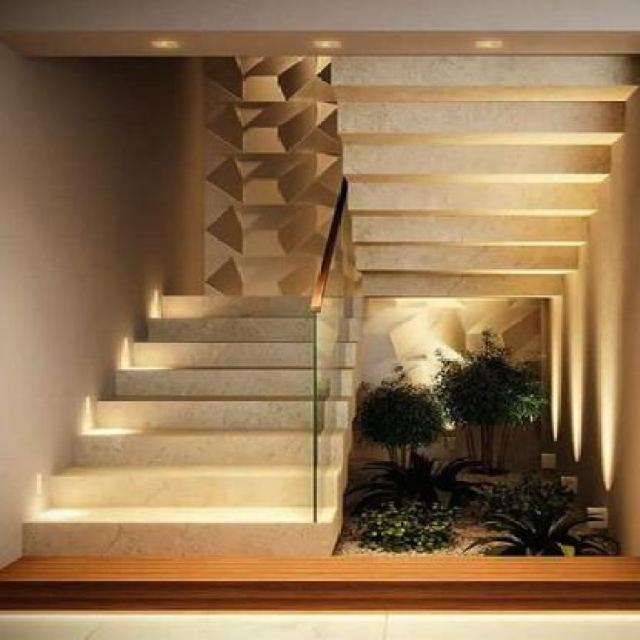stair: (13, 216, 347, 567)
